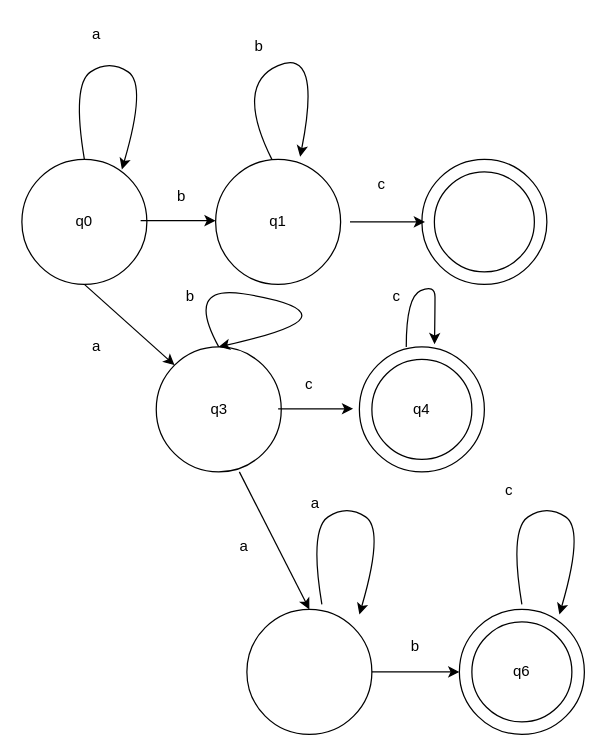
This 606x756 diagram has some shape labels left out. Each missing label, with the centre of its shape:
"q2" belongs at (483,221).
"q5" belongs at (309,671).
